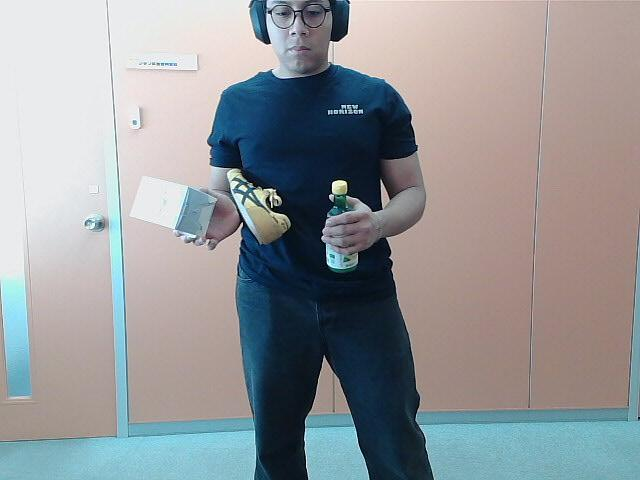Blind_box: (129, 169, 217, 242)
Lemon_sapporo: (323, 176, 364, 272)
Shoes: (225, 166, 292, 256)
